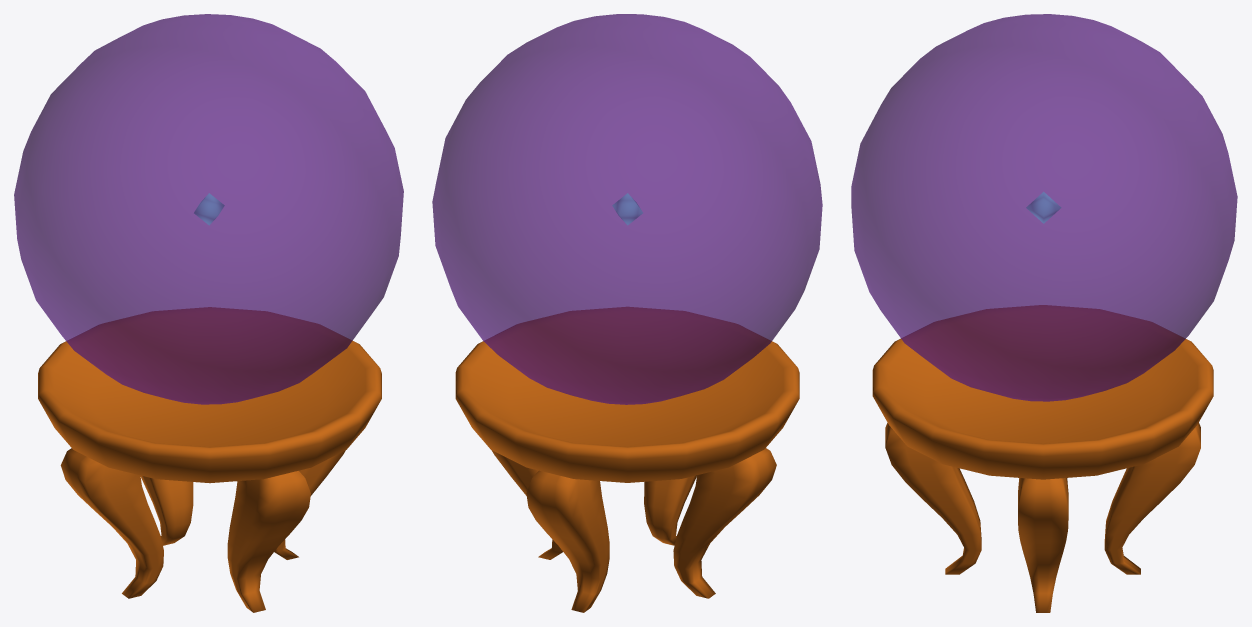
The model's file is BolaMagicaMSv3.fbx.
The picture shows the model from 3 angles, left to right: view 1: azimuth 30°, elevation 25°; view 2: azimuth 150°, elevation 25°; view 3: azimuth 270°, elevation 25°; orthographic projection.
Parts seen in each view (by area): view 1: Bola Mágica; view 2: Bola Mágica; view 3: Bola Mágica.
Boxes of the visible parts, x1,y1,x2,y2 form: Bola Mágica: (14,14,403,612); Bola Mágica: (432,14,822,612); Bola Mágica: (851,14,1237,612).
Bounding box in the file's own units: 7.96 × 12.25 × 7.95.
